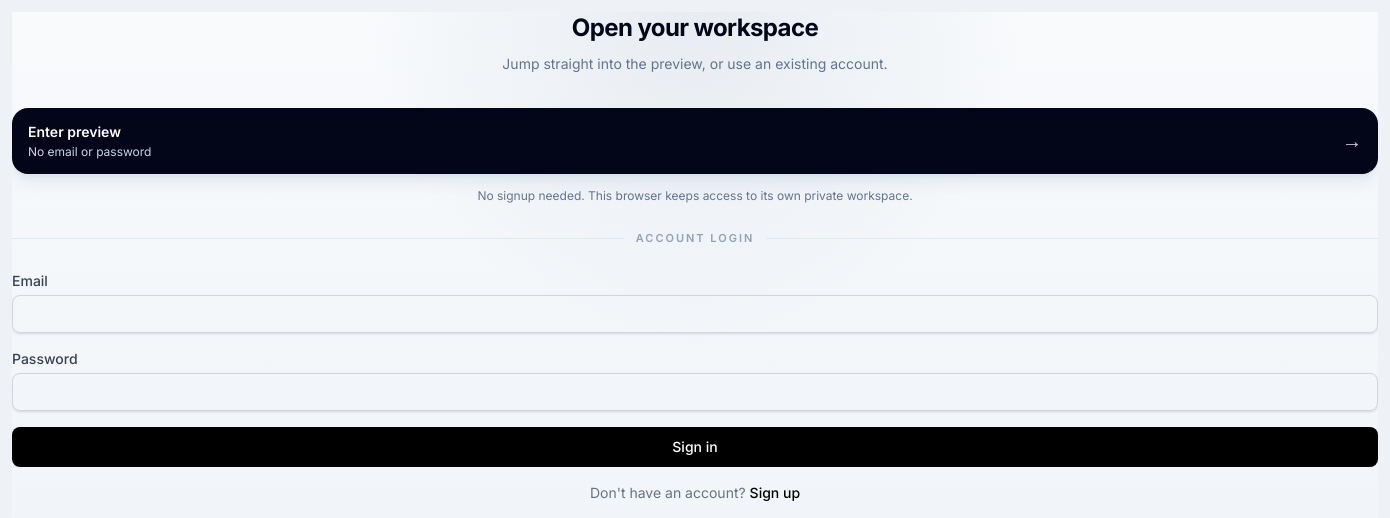
Test: LoginForm › pending state › disables submit button and shows loading text while pending
The width and height of the screenshot is (1390, 518).
Type "user@example.com" into the field labelled "Email".
click(695, 314); type("user@example.com")  # box [12,294,1378,332]
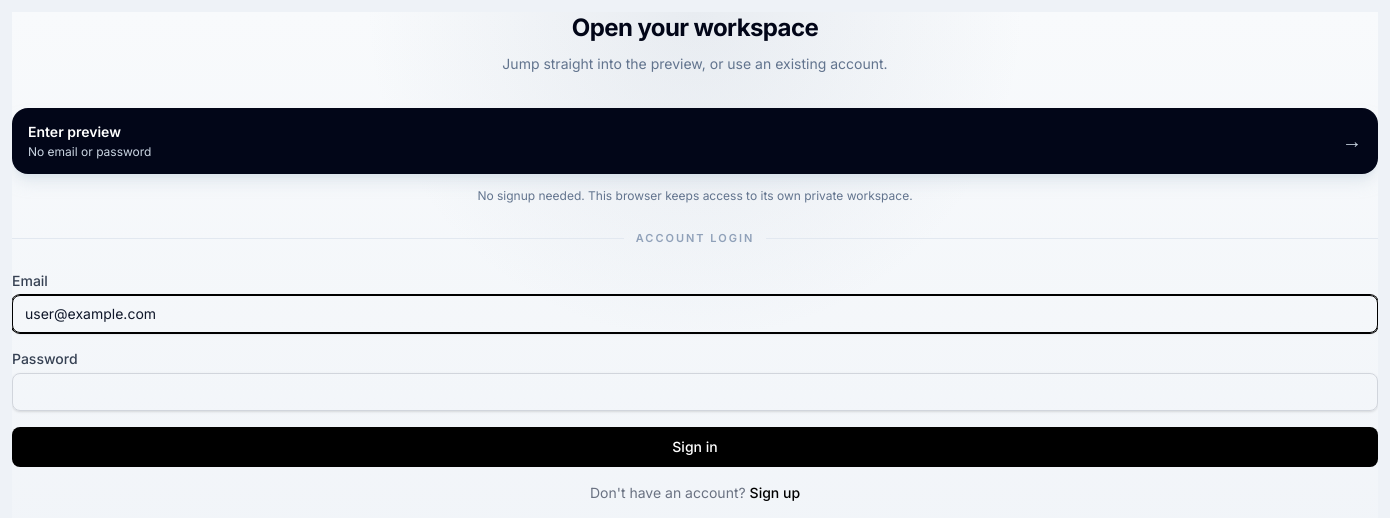
Type "mypassword" into the password field labelled "Password".
click(695, 392); type("mypassword")  # box [12,372,1378,410]
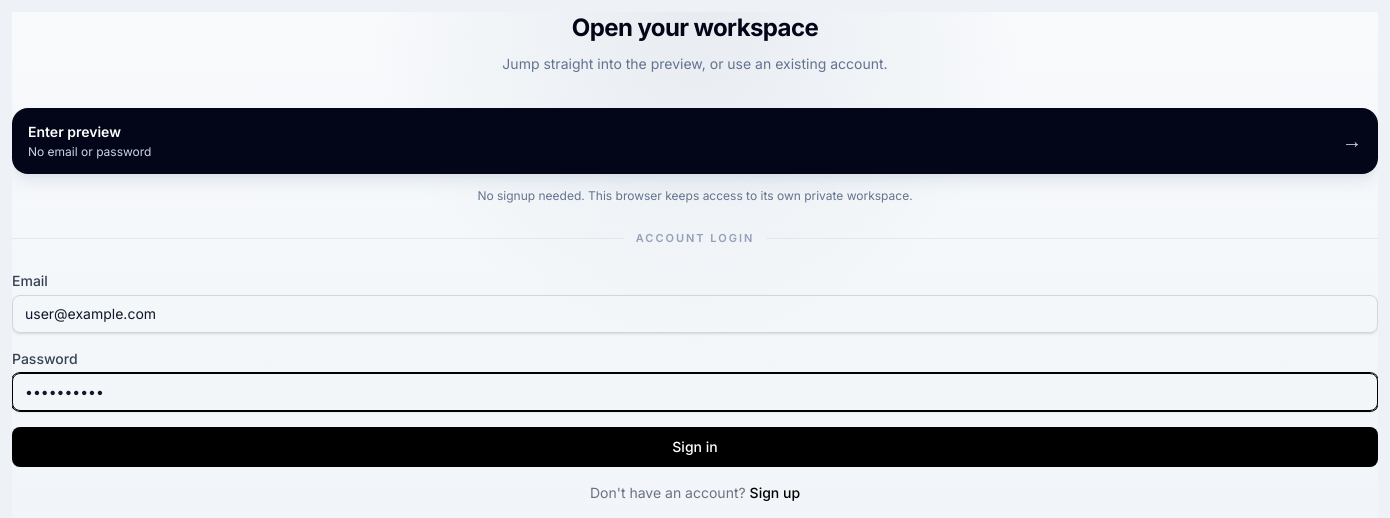
Click the button "Sign in".
click(695, 446)  # box [12,426,1378,466]
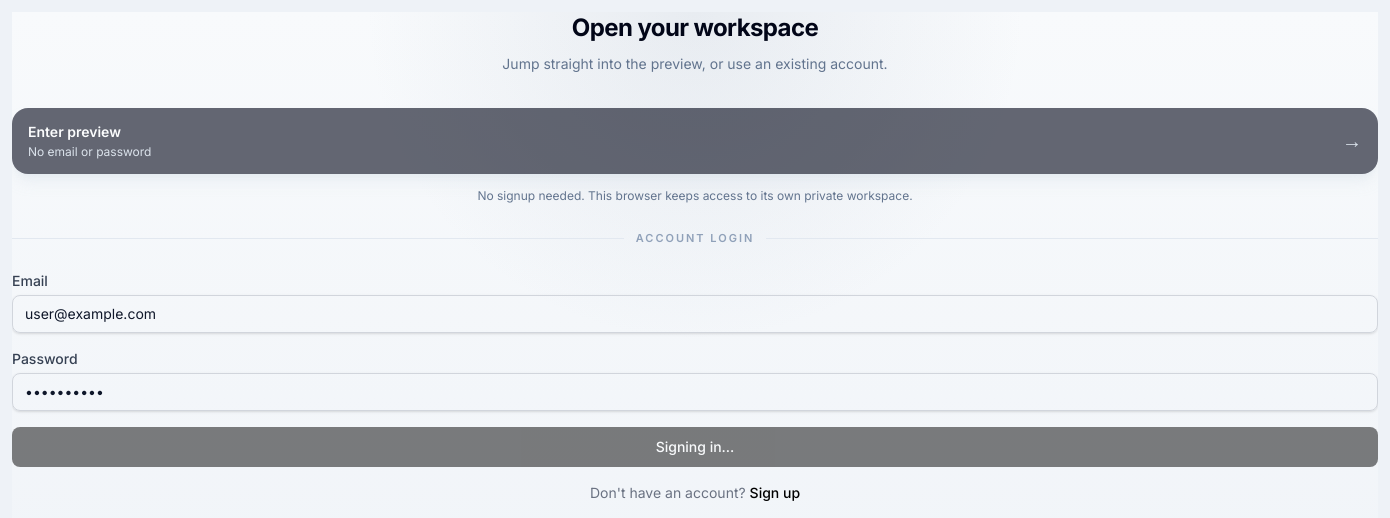
Result: the button "Signing in..." is disabled at [12,426,1378,466]
Result: the button "Signing in..." is shown at [12,426,1378,466]
